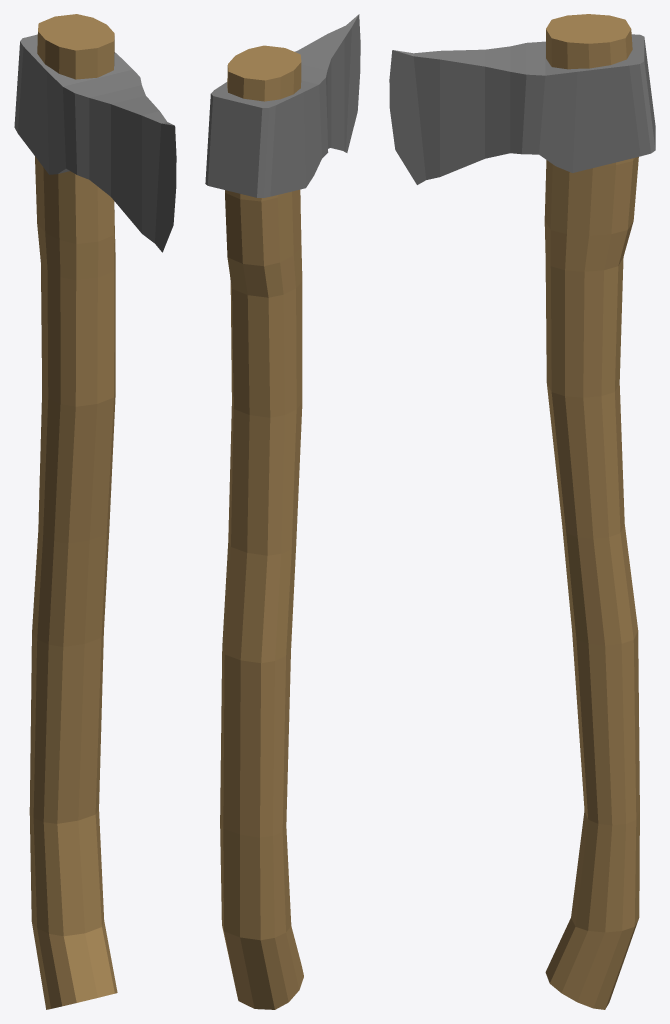
Rendered from Treefeller_Axe.fbx.
3 renders of one model, left to right at view 1: azimuth 30°, elevation 25°; view 2: azimuth 150°, elevation 25°; view 3: azimuth 270°, elevation 25°, orthographic. The views are drawn at different scales.
Parts seen in each view (by area): view 1: Treefeller Axe Handle, Treefeller Axe Head; view 2: Treefeller Axe Handle, Treefeller Axe Head; view 3: Treefeller Axe Handle, Treefeller Axe Head.
Part boxes in pixels (x1,y1,x2,y2): Treefeller Axe Handle: [29, 14, 117, 1009]; Treefeller Axe Head: [14, 34, 176, 252]; Treefeller Axe Handle: [220, 45, 303, 1009]; Treefeller Axe Head: [205, 14, 360, 197]; Treefeller Axe Handle: [544, 14, 639, 1009]; Treefeller Axe Head: [389, 34, 655, 184].
Size of the model in its own units: 31.78 by 423 by 105.
